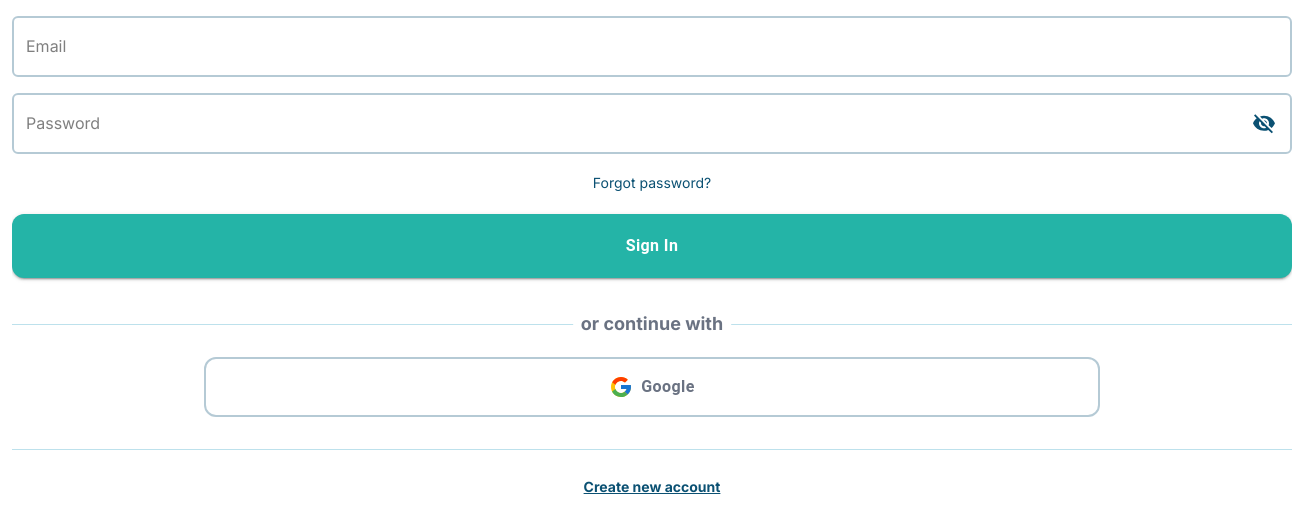
Test: SignInForm Component › Password Toggle › toggles password and icon visibility when clicked twice
expect the icon with test id "password-hidden" is shown: met, box [1252,112,1276,136]
First click (visible)
Click the button named "toggle password visibility".
click(1264, 123)  # box [1244,104,1284,142]
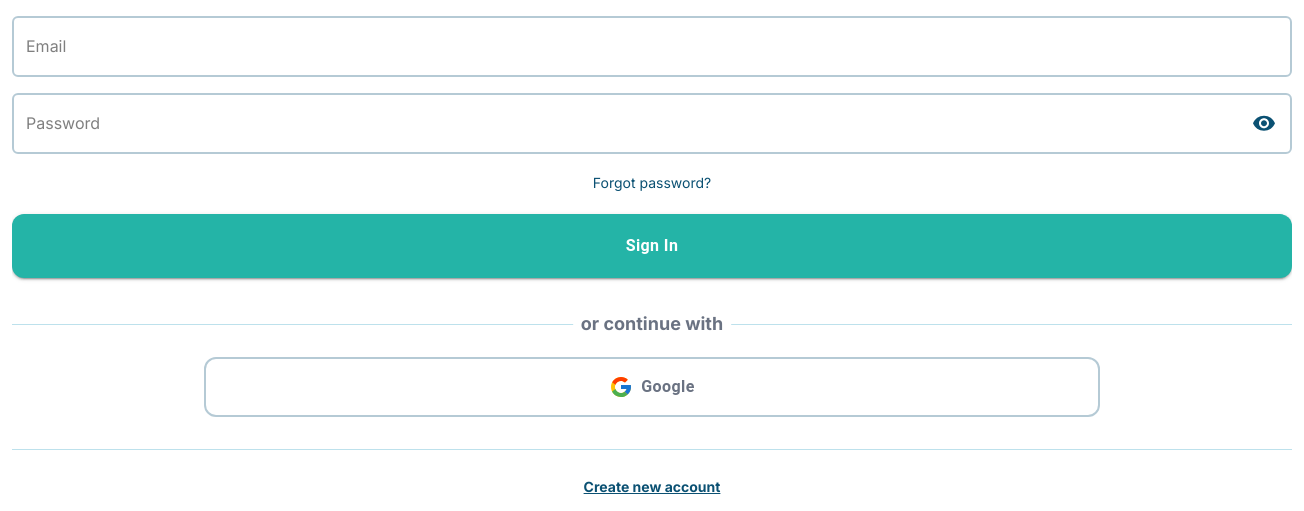
expect the icon with test id "password-visible" is shown: met, box [1252,112,1276,136]
Second click (hidden again)
Click the button named "toggle password visibility".
click(1264, 123)  # box [1244,104,1284,142]
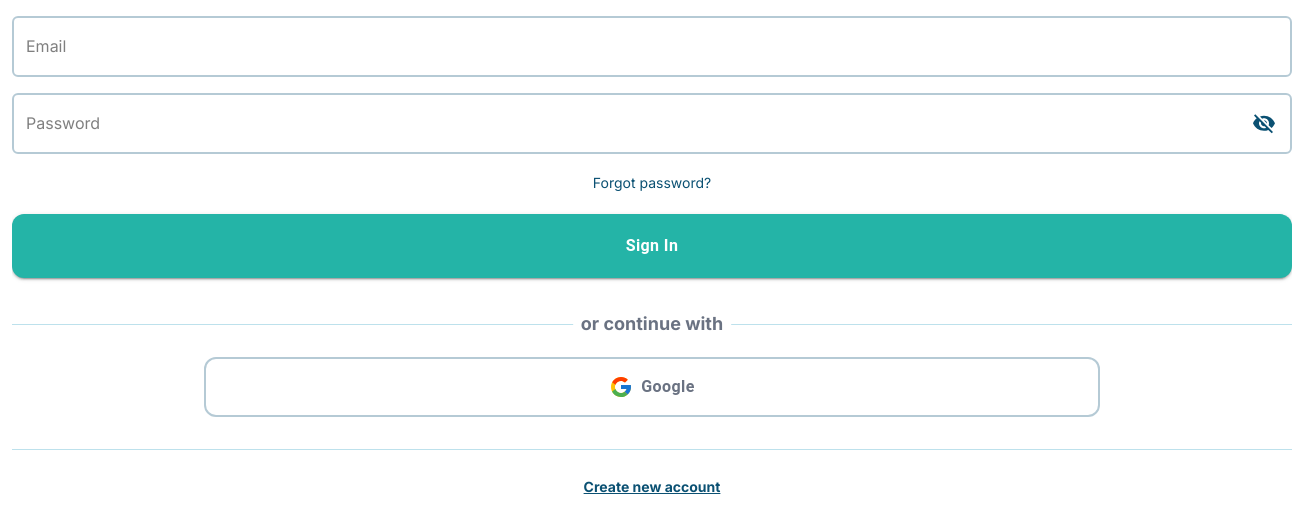
expect the icon with test id "password-hidden" is shown: met, box [1252,112,1276,136]
